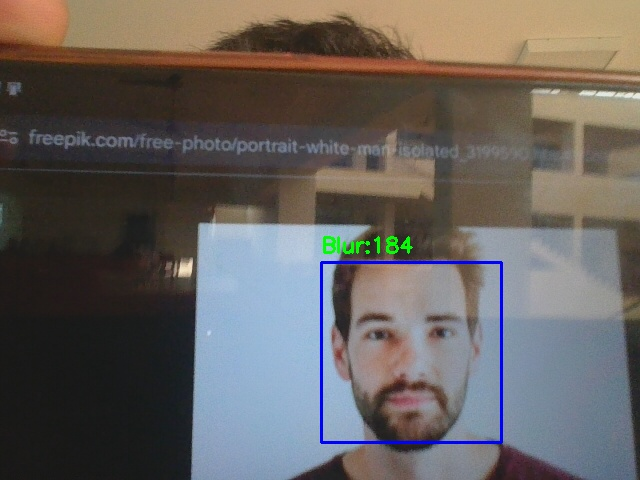fake: (321, 262, 501, 442)
